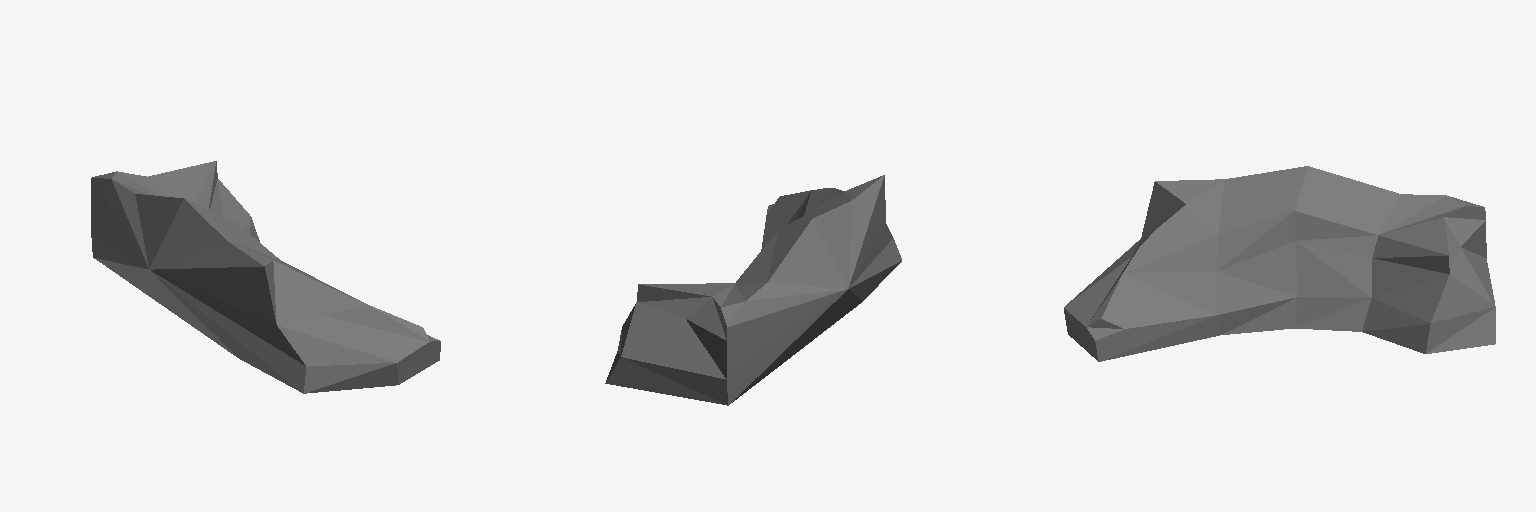
File: Rock_Limit_001.obj
The picture shows the model from 3 angles: view 1: azimuth 30°, elevation 25°; view 2: azimuth 150°, elevation 25°; view 3: azimuth 270°, elevation 25°; orthographic projection.
Visible parts, largest first — view 1: polySurface19 polySurface18 polySurface16 polySurface14 polySurf; view 2: polySurface19 polySurface18 polySurface16 polySurface14 polySurf; view 3: polySurface19 polySurface18 polySurface16 polySurface14 polySurf.
Boxes of the visible parts, box(x1,y1,x2,y2) form: polySurface19 polySurface18 polySurface16 polySurface14 polySurf: box(91, 161, 440, 393); polySurface19 polySurface18 polySurface16 polySurface14 polySurf: box(605, 175, 901, 405); polySurface19 polySurface18 polySurface16 polySurface14 polySurf: box(1064, 166, 1495, 361).
Size of the model in its own units: 564 by 355 by 1130.